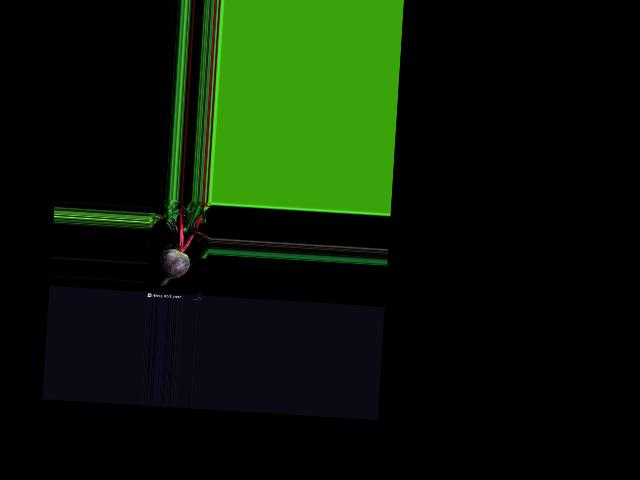beet: (145, 198, 212, 288)
